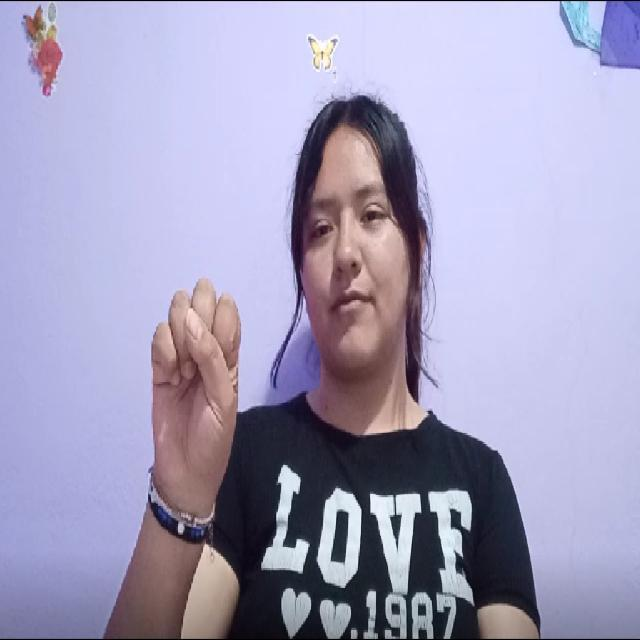S: (132, 266, 256, 542)
